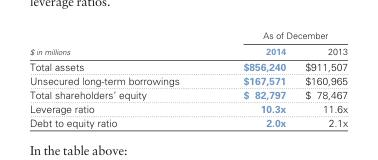table: (28, 29, 347, 128)
table column: (28, 29, 210, 128), (210, 29, 294, 128), (294, 29, 347, 128)
table column header: (28, 29, 347, 58)
table row: (28, 42, 347, 58), (28, 58, 347, 73), (28, 73, 347, 87), (28, 87, 347, 101), (28, 101, 347, 115), (28, 29, 347, 42), (28, 115, 347, 128)
table spanning cell: (28, 29, 210, 58), (210, 29, 347, 42)
